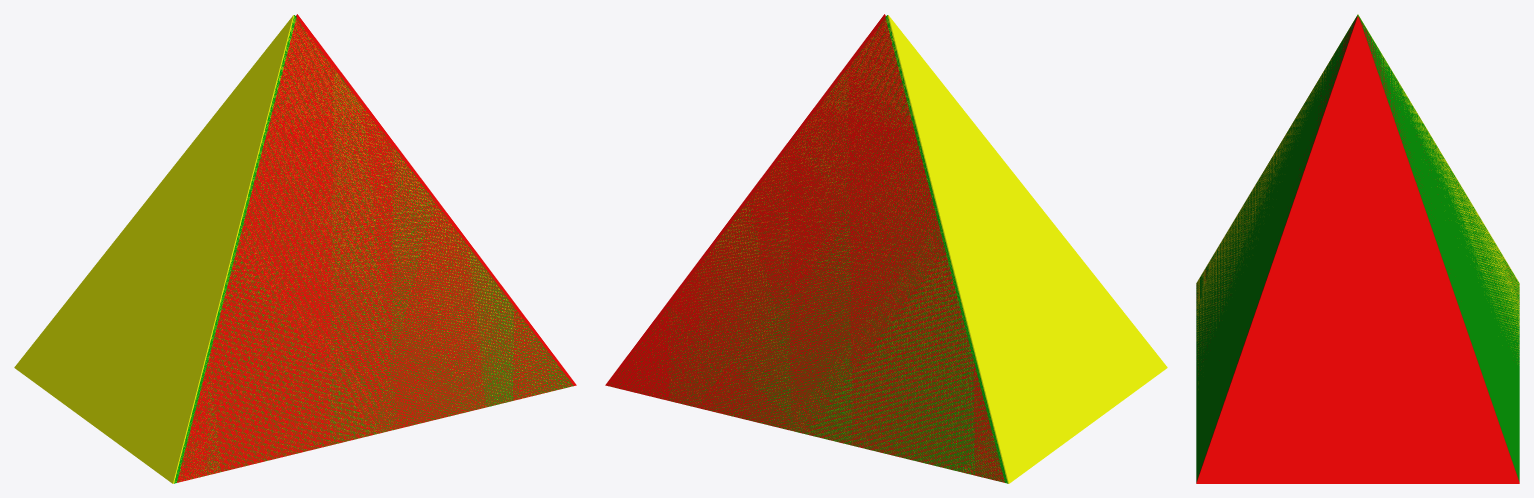
Rendered from ColorLight.FBX.
The picture shows the model from 3 angles, left to right: view 1: azimuth 30°, elevation 25°; view 2: azimuth 150°, elevation 25°; view 3: azimuth 270°, elevation 25°; orthographic projection.
Visible parts, largest first — view 1: red, green, yellow; view 2: red, green, yellow; view 3: red, green, yellow.
Boxes of the visible parts, box(x1,y1,x2,y2) form: red: box(177, 14, 576, 482); green: box(174, 15, 573, 483); yellow: box(14, 15, 568, 483); red: box(605, 14, 1004, 482); green: box(610, 15, 1007, 483); yellow: box(636, 15, 1167, 483); red: box(1196, 16, 1519, 483); green: box(1196, 15, 1519, 481); yellow: box(1196, 14, 1519, 389).
Size of the model in its own units: 18.75 by 16.06 by 12.76.
